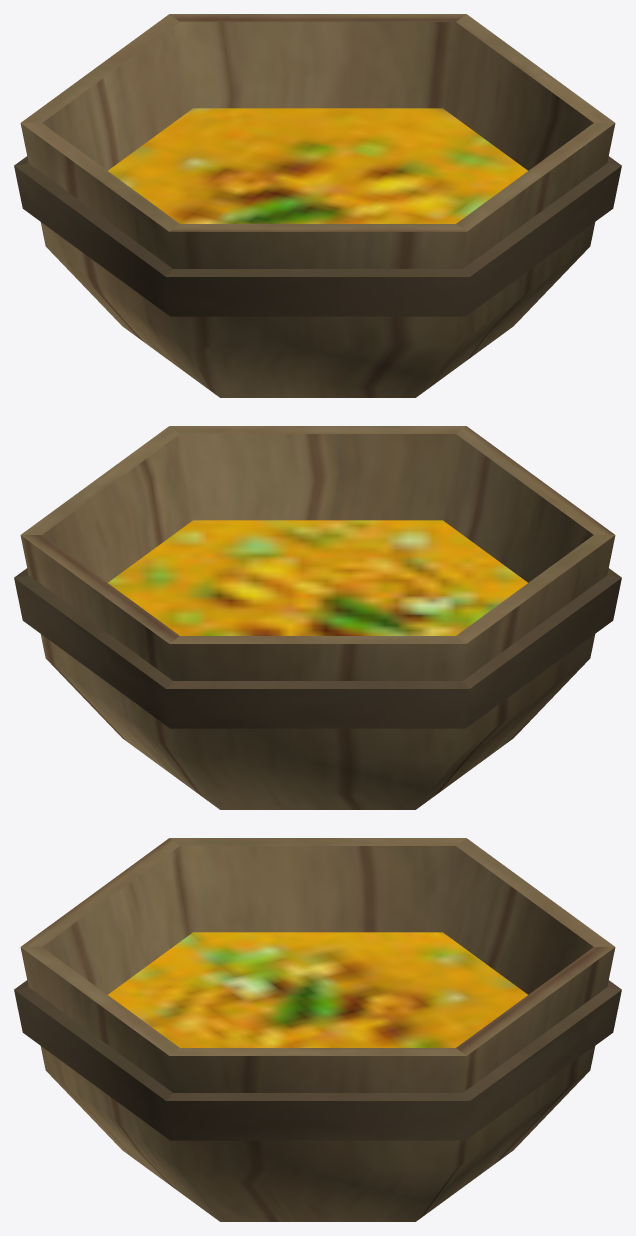
File: bowl-of-stew.glb
3 views of the same model, one above another, from view 1: azimuth 30°, elevation 25°; view 2: azimuth 150°, elevation 25°; view 3: azimuth 270°, elevation 25° (orthographic).
Visible parts, largest first — view 1: bowl-of-stew; view 2: bowl-of-stew; view 3: bowl-of-stew.
Part boxes in pixels (bbox=[...]): bowl-of-stew: bbox=[14, 14, 621, 397]; bowl-of-stew: bbox=[14, 426, 621, 809]; bowl-of-stew: bbox=[14, 838, 621, 1221].
Size of the model in its own units: 0.1409 by 0.06 by 0.1627.
Materials: 3 (3 with a texture image).
